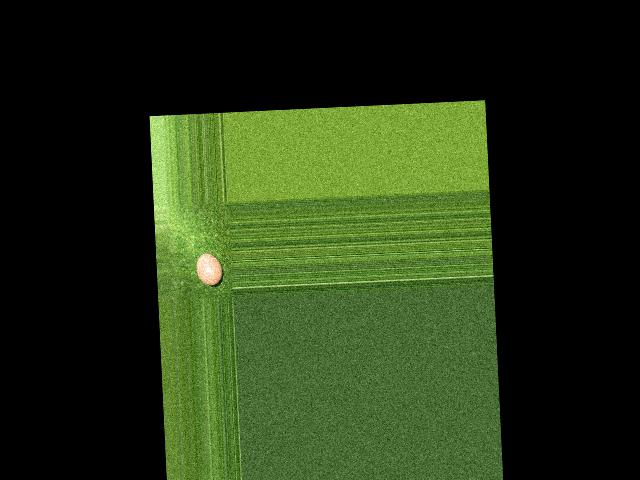egg: (196, 251, 223, 286)
